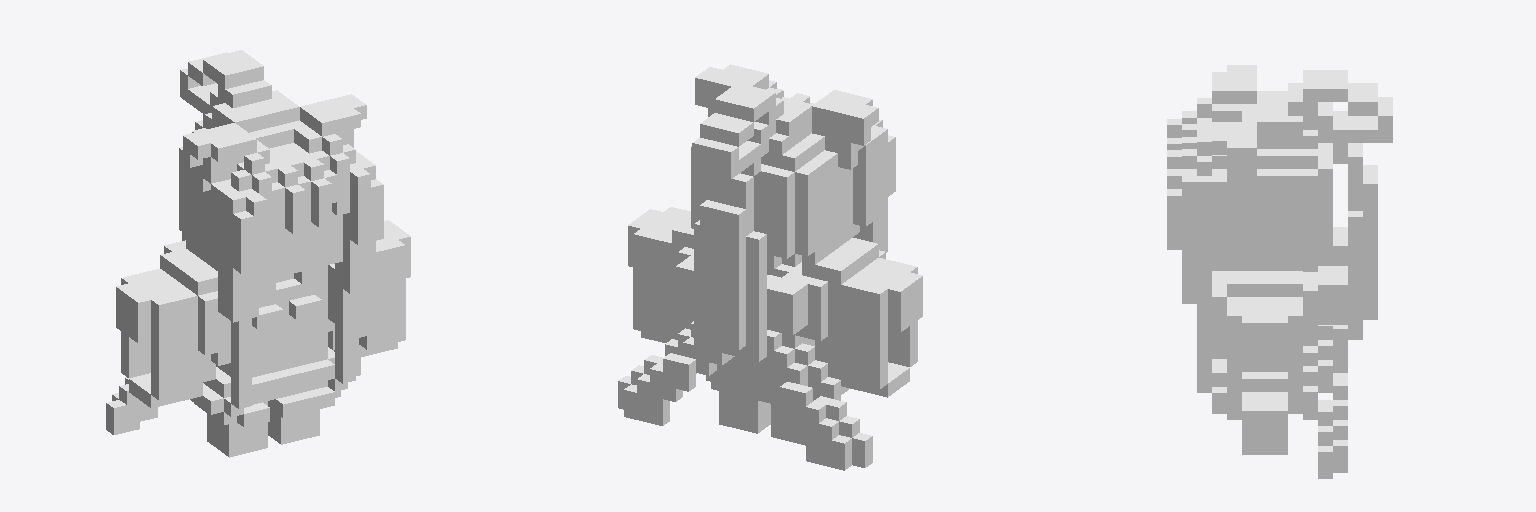
Rendered from Itako.obj.
3 views of the same model, side by side, from view 1: azimuth 30°, elevation 25°; view 2: azimuth 150°, elevation 25°; view 3: azimuth 270°, elevation 25° (orthographic).
Visible parts, largest first — view 1: Itako; view 2: Itako; view 3: Itako.
Boxes of the visible parts, x1,y1,x2,y2 form: Itako: [106, 50, 410, 457]; Itako: [618, 64, 922, 470]; Itako: [1167, 65, 1392, 478].
Size of the model in its own units: 21 by 26 by 15.